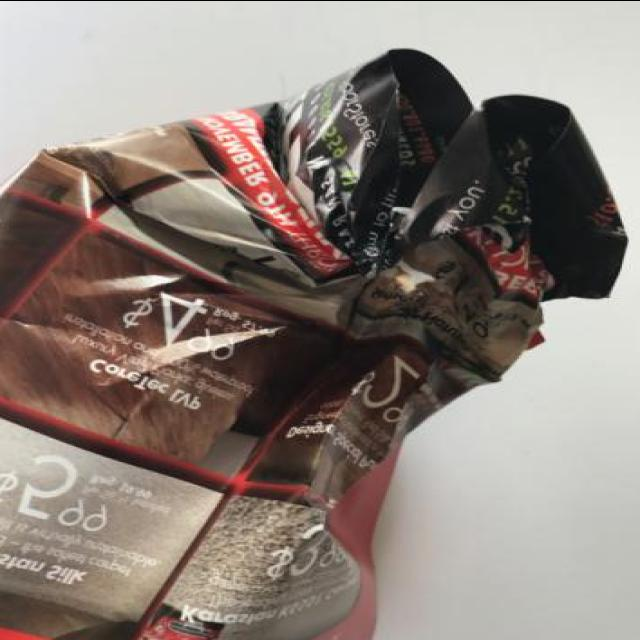kertas: (0, 43, 627, 640)
